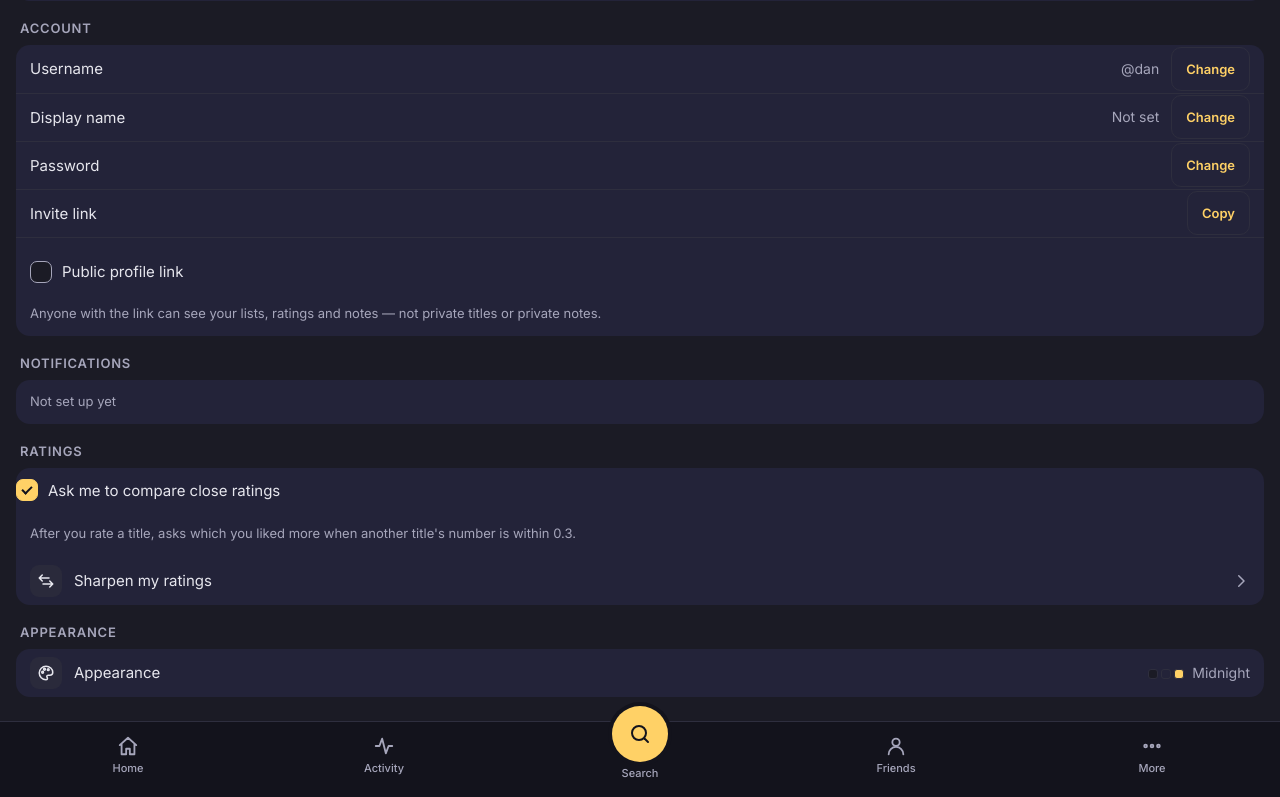
Scenario: SettingsScreen › shows the username and links to Appearance (the theme)
(page scrolled)
expect the text "@dan" is shown: met, box top-left (1121, 59), bottom-right (1159, 78)
Click the link "Appearance Midnight": (46, 673) top-left (16, 649), bottom-right (1264, 697)
(page scrolled)
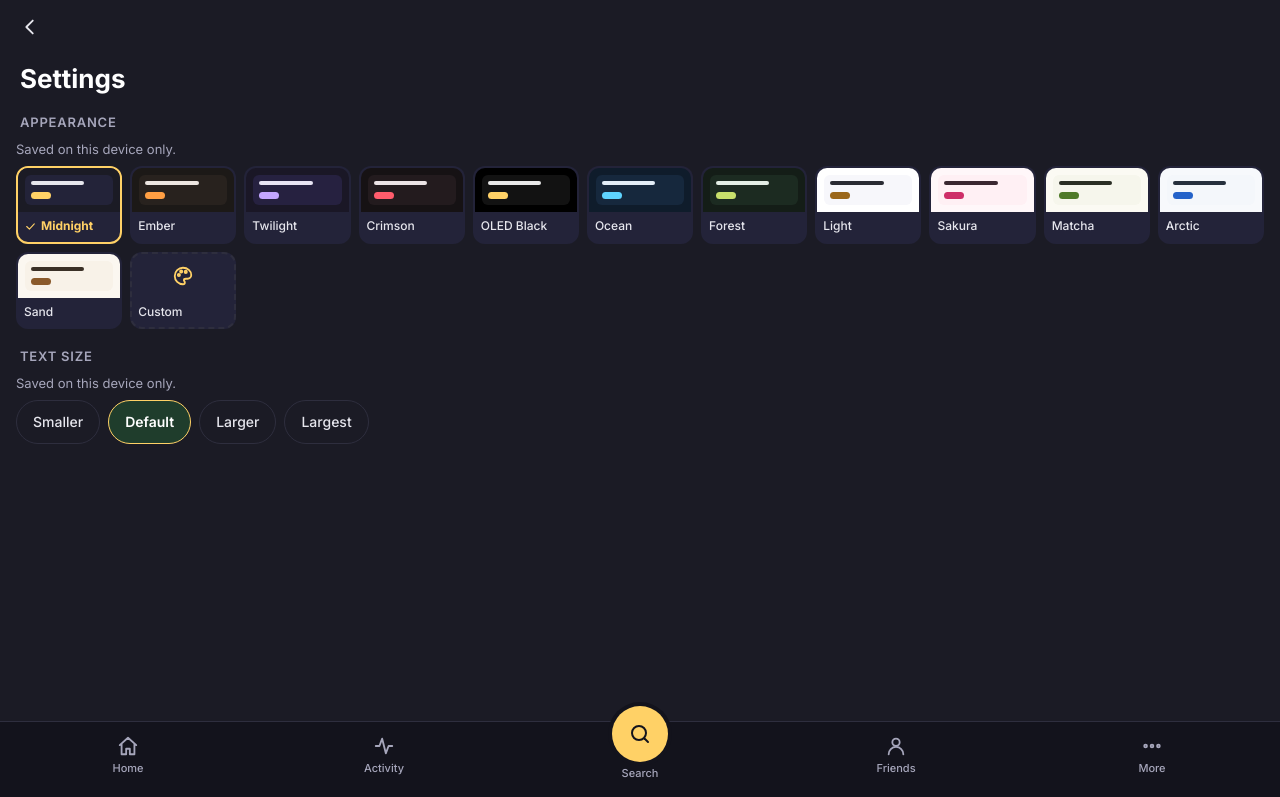
expect the element named "Theme" is shown: met, box top-left (16, 166), bottom-right (1264, 329)
